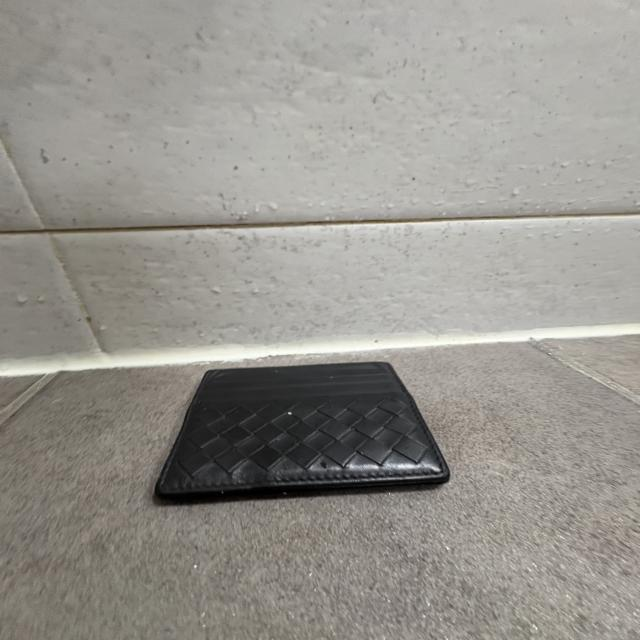wallet: (150, 358, 452, 506)
